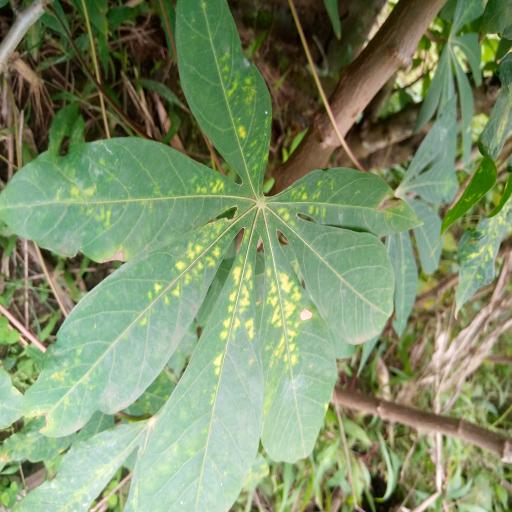Cassava_Mosaic: (16, 0, 402, 512)
